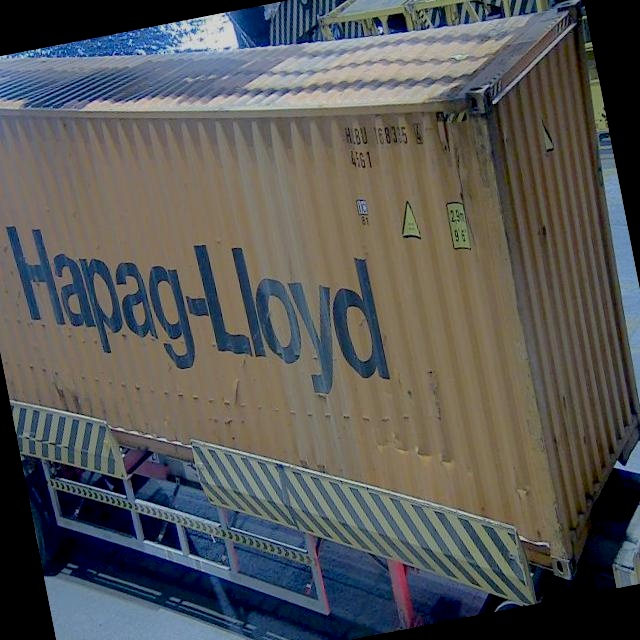Dent: (369, 397, 458, 487), (446, 132, 482, 250), (212, 366, 251, 423)
